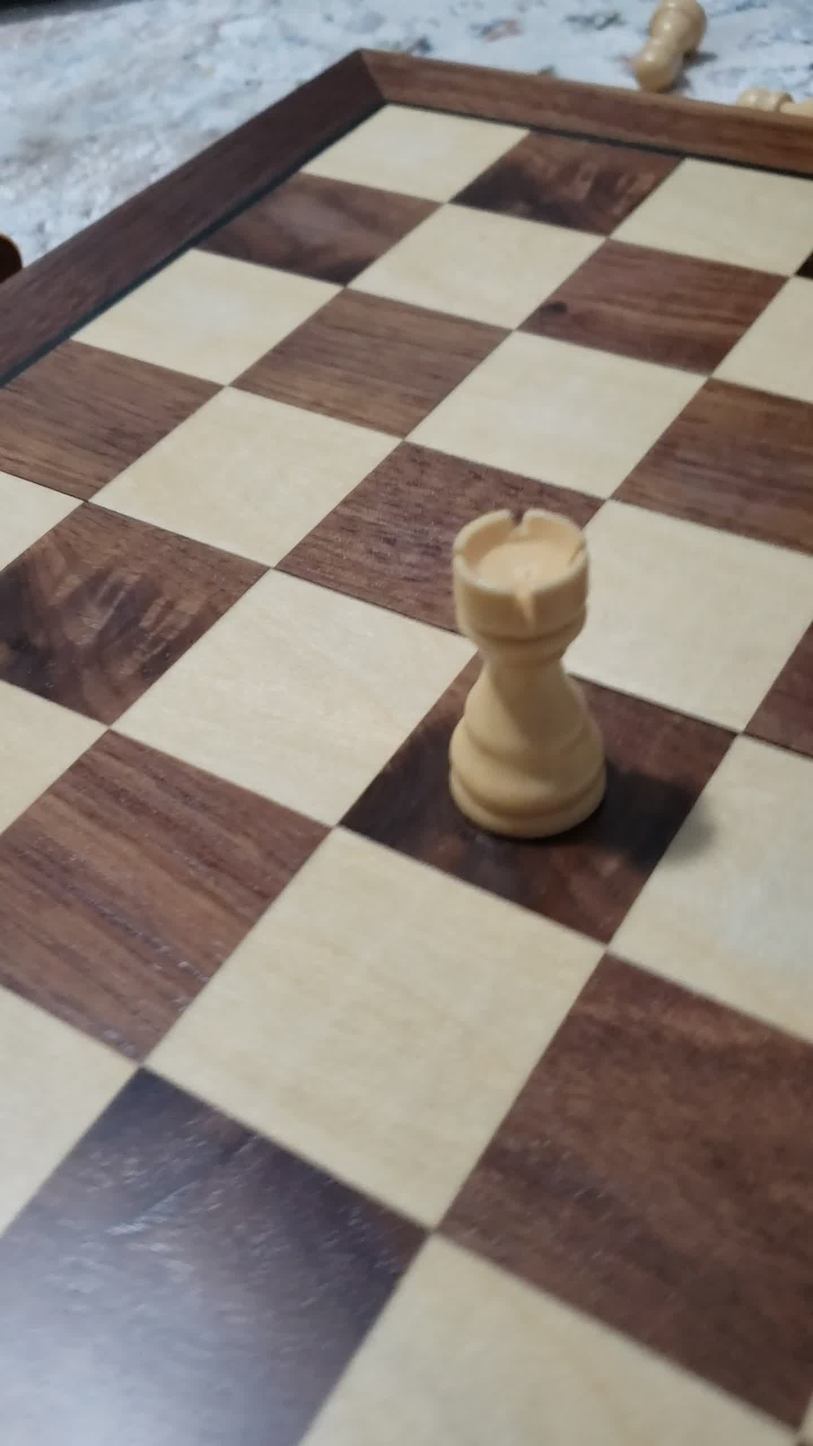white-rook: (423, 486, 643, 858)
